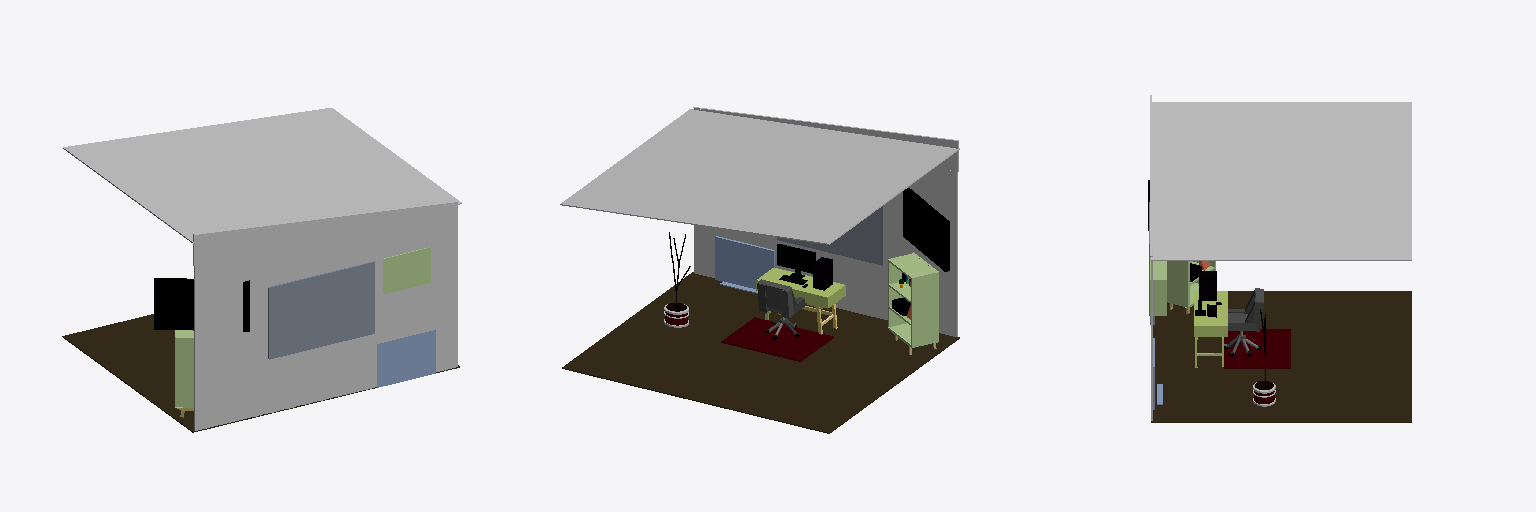
The model's file is room.obj.
3 views of the same model, side by side, from view 1: azimuth 30°, elevation 25°; view 2: azimuth 150°, elevation 25°; view 3: azimuth 270°, elevation 25° (orthographic).
Parts seen in each view (by area): view 1: Cube.004, Cube.005, Cube.035, Cube.001, Cube.006, Cube.036, Cube.034, Cube.044, Cube.040; view 2: Cube.005, Cube.001, Cube.004, Cube.032, Cube.034, Cube.036, Cube.035, Cube.039, Cube.006, Cube.009, Cube.027, Cube.042 (+2 smaller); view 3: Cube.005, Cube.001, Cube.032, Cube.009, Cube.031, Cube.044.
Part boxes in pixels (left/top/right/bottom): Cube.004: left=194, top=202, right=457, bottom=430; Cube.005: left=63, top=108, right=461, bottom=243; Cube.035: left=268, top=261, right=374, bottom=359; Cube.001: left=62, top=314, right=459, bottom=432; Cube.006: left=193, top=201, right=458, bottom=265; Cube.036: left=377, top=330, right=435, bottom=387; Cube.034: left=154, top=278, right=249, bottom=331; Cube.044: left=383, top=247, right=430, bottom=293; Cube.040: left=176, top=337, right=193, bottom=407; Cube.005: left=560, top=109, right=959, bottom=244; Cube.001: left=562, top=272, right=959, bottom=433; Cube.004: left=694, top=108, right=957, bottom=336; Cube.032: left=721, top=317, right=833, bottom=361; Cube.034: left=903, top=188, right=949, bottom=271; Cube.036: left=715, top=236, right=774, bottom=288; Cube.035: left=777, top=205, right=883, bottom=265; Cube.039: left=911, top=271, right=938, bottom=347; Cube.006: left=693, top=107, right=958, bottom=171; Cube.009: left=756, top=268, right=845, bottom=308; Cube.027: left=777, top=244, right=815, bottom=273; Cube.042: left=888, top=254, right=935, bottom=278; Cube.005: left=1151, top=102, right=1411, bottom=260; Cube.001: left=1151, top=291, right=1411, bottom=422; Cube.032: left=1224, top=329, right=1290, bottom=368; Cube.009: left=1194, top=291, right=1227, bottom=336; Cube.031: left=1167, top=261, right=1189, bottom=307; Cube.044: left=1150, top=257, right=1166, bottom=315.
Size of the model in its own units: 12.71 by 8.49 by 10.27.